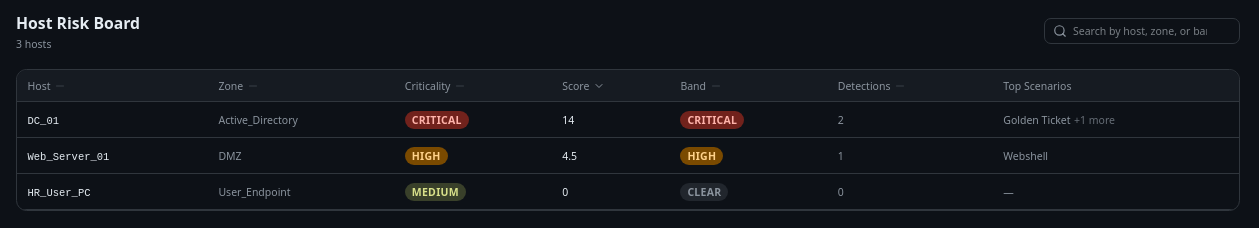
Test: HostRisk page › filters by hostname via the search box
This screenshot has width=1259, height=228.
Expected: the button "DC_01" is shown, [28,114,59,128]
Type "web" into the search field.
click(1142, 31); type("web")  # box [1044,18,1240,44]
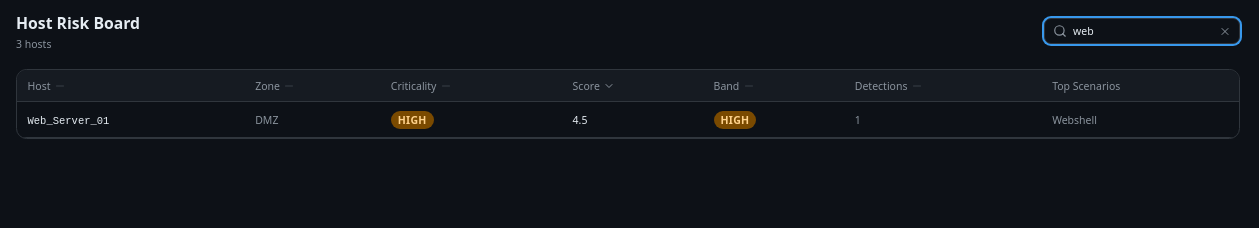
Expected: the button "Web_Server_01" is shown, [28,114,109,128]
Now the button "DC_01" is gone
